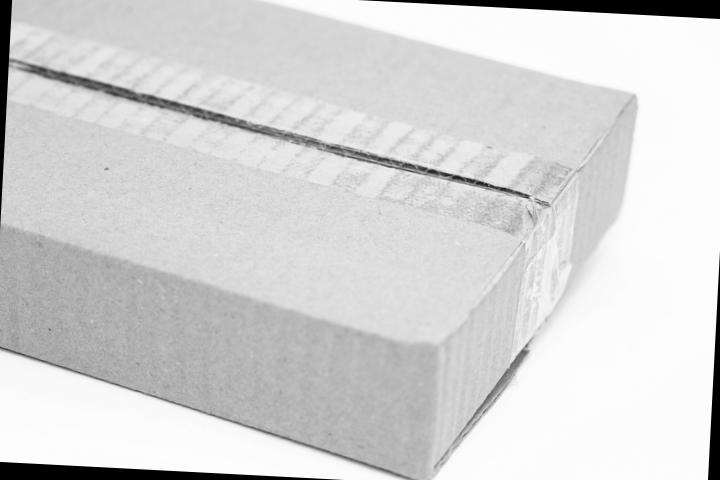cardboard: (0, 5, 681, 480)
